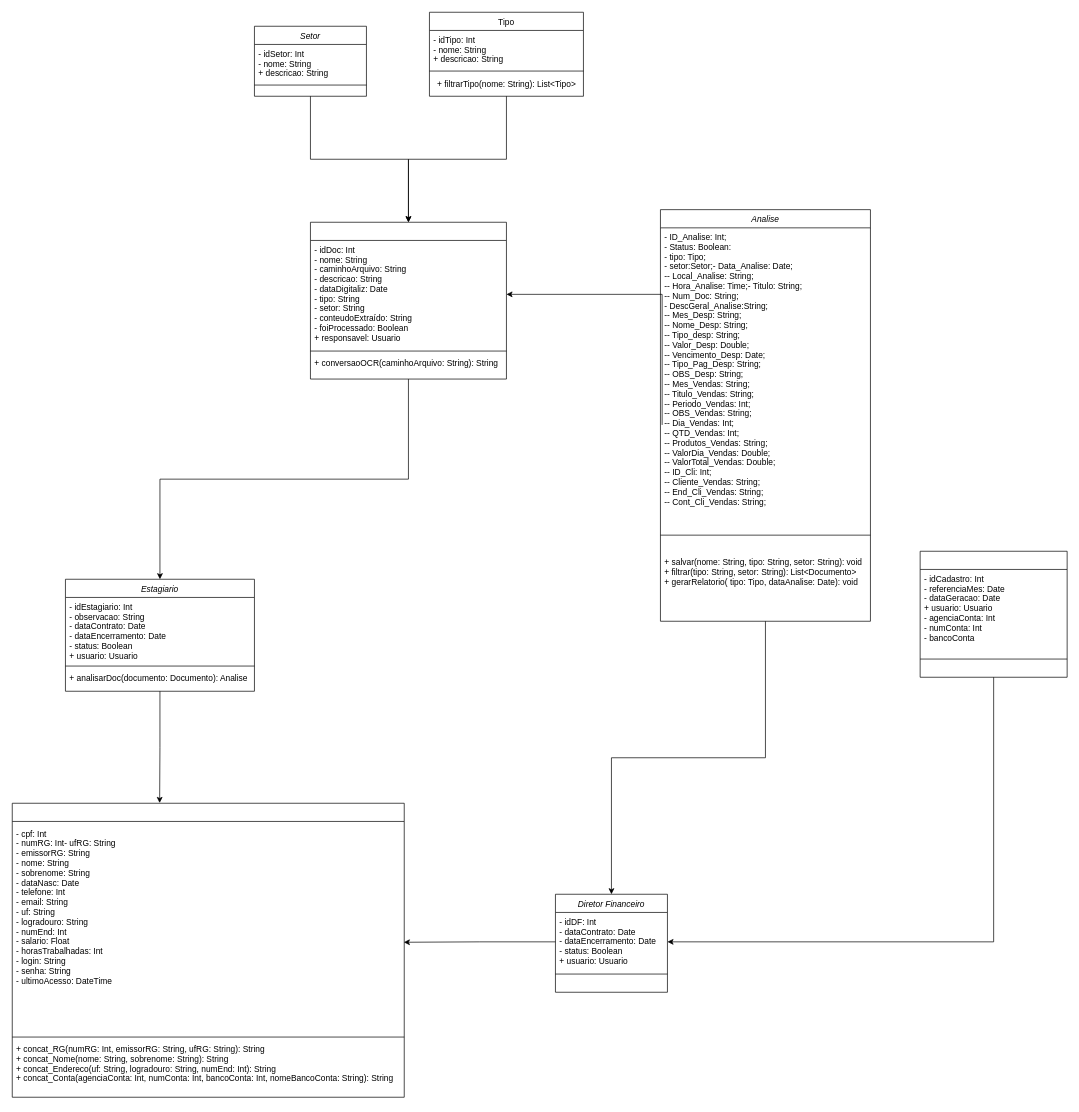
Some shapes in this 1079 by 1112 pixel diagram are drawn without their labels. Here are the shapes that lost their labels. From the top down, the box of each, then its label:
(310, 222, 506, 379): Documento
(919, 551, 1067, 677): Cadastro Bancário
(12, 803, 404, 1097): Usuário
